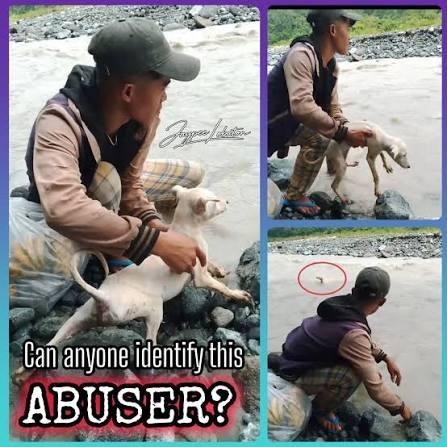puppy-dog: (46, 186, 251, 345), (325, 120, 413, 208)
